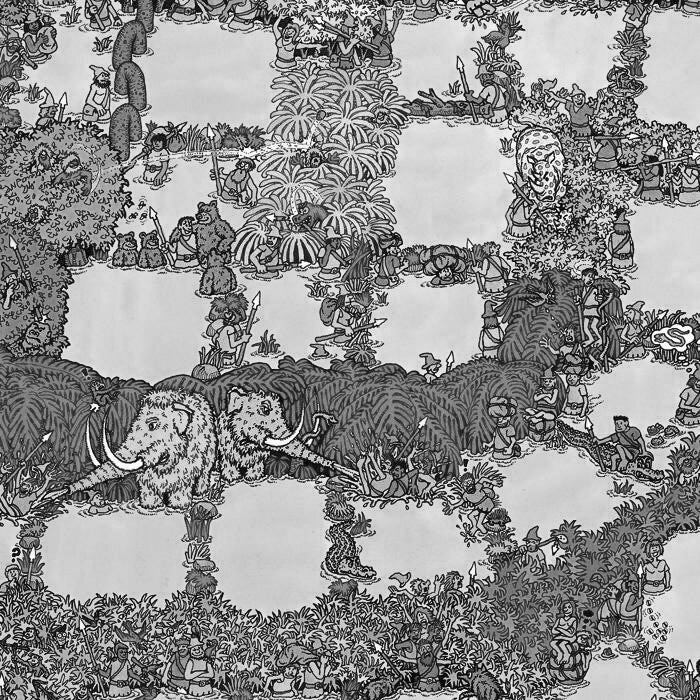Waldo: (48, 624, 72, 649)
